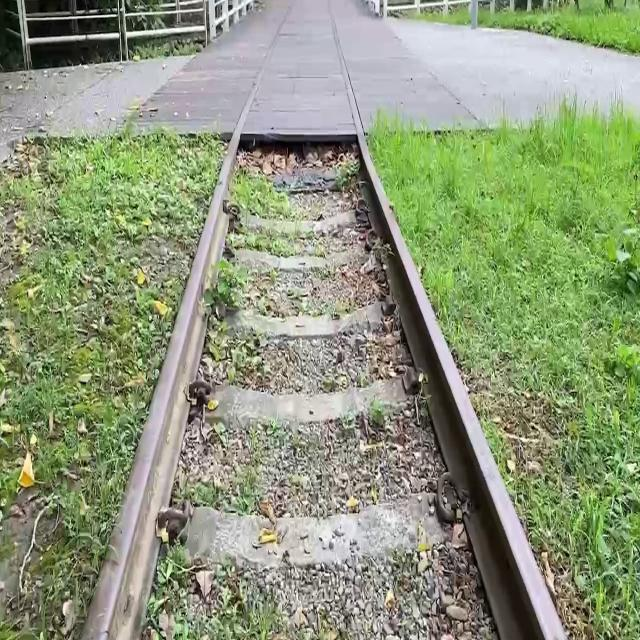rail-track: (141, 142, 499, 639), (242, 0, 355, 136)
